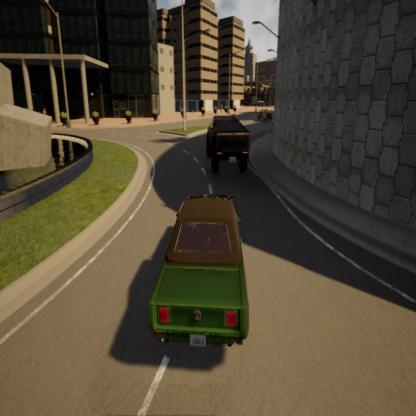Cars: (148, 186, 256, 363), (195, 106, 254, 182), (254, 105, 274, 122)
